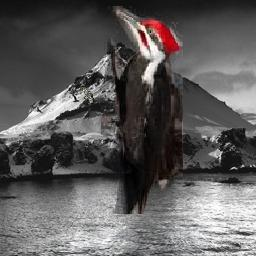Woodpecker: (101, 6, 183, 214), (81, 88, 94, 105)
